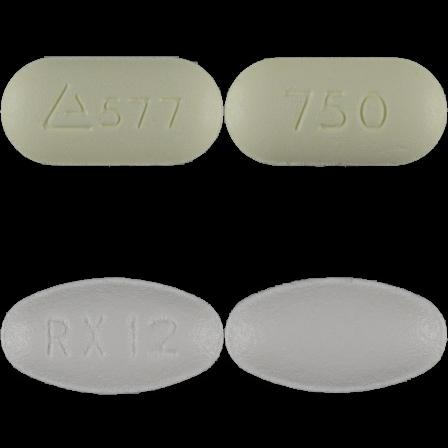43063-372: (0, 0, 224, 224)
